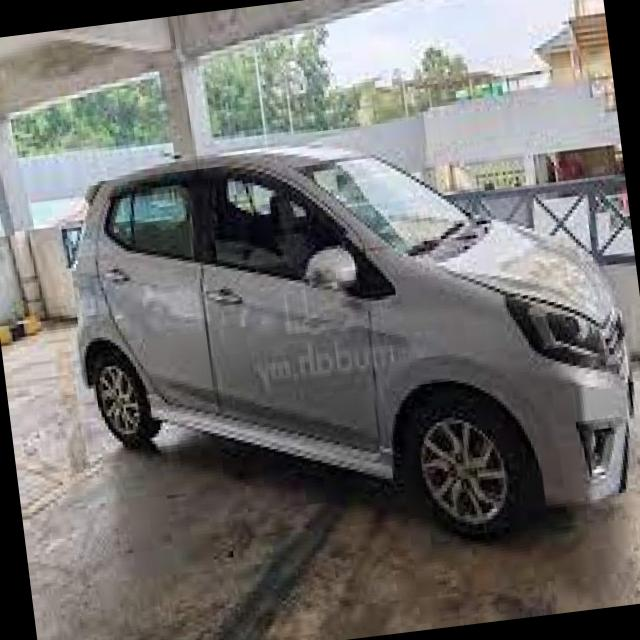PeroduaAxia: (53, 99, 640, 586)
